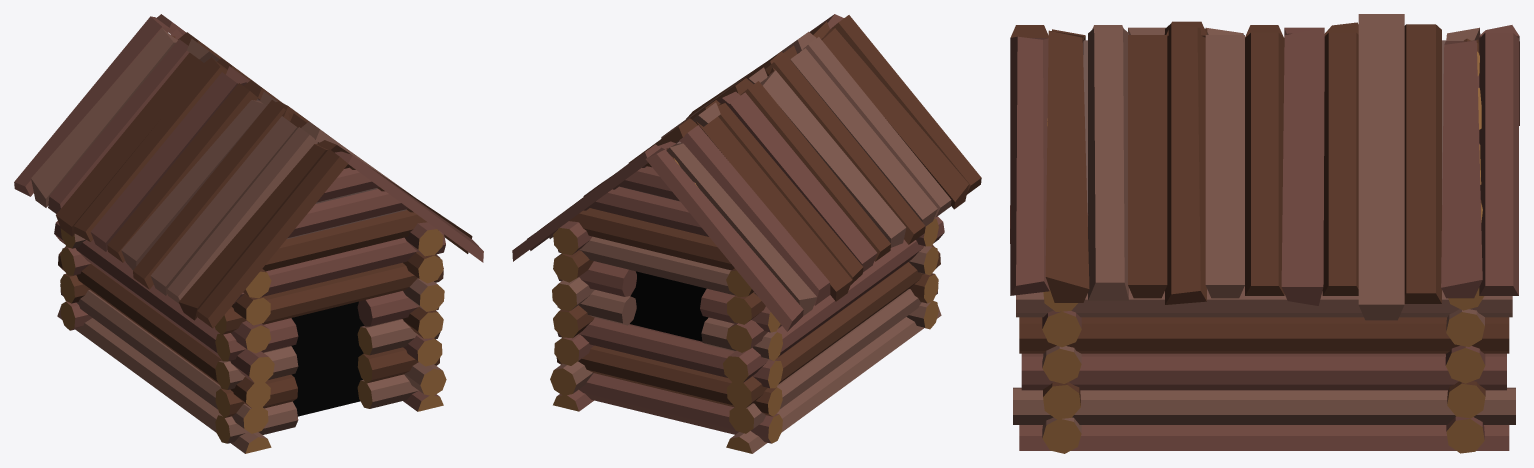
Rendered from Wood House.fbx.
3 views of the same model, side by side, from view 1: azimuth 30°, elevation 25°; view 2: azimuth 150°, elevation 25°; view 3: azimuth 270°, elevation 25° (orthographic). The views are drawn at different scales.
Visible parts, largest first — view 1: Куб, Цилиндр.039, Цилиндр.050, Цилиндр.022, Цилиндр.001, Цилиндр.049, Цилиндр.042, Цилиндр.045, Цилиндр.040, Цилиндр.024, Цилиндр.023, Цилиндр.043 (+31 smaller); view 2: Цилиндр.051, Цилиндр.009, Цилиндр.022, Цилиндр.048, Цилиндр.006, Цилиндр.007, Цилиндр.041, Цилиндр.045, Цилиндр.046, Цилиндр.049, Цилиндр.024, Цилиндр.042 (+31 smaller); view 3: Цилиндр.015, Цилиндр.014, Цилиндр.013, Цилиндр.035, Цилиндр.031, Цилиндр.026, Цилиндр.029, Цилиндр.033, Цилиндр.027, Цилиндр.037, Цилиндр.028, Цилиндр.032 (+15 smaller).
Boxes of the visible parts, x1=… form: Куб: x1=291, y1=301, x2=364, y2=416; Цилиндр.039: x1=197, y1=149, x2=347, y2=328; Цилиндр.050: x1=31, y1=28, x2=177, y2=207; Цилиндр.022: x1=58, y1=246, x2=270, y2=408; Цилиндр.001: x1=215, y1=254, x2=443, y2=334; Цилиндр.049: x1=56, y1=52, x2=209, y2=236; Цилиндр.042: x1=150, y1=116, x2=297, y2=295; Цилиндр.045: x1=91, y1=72, x2=237, y2=251; Цилиндр.040: x1=167, y1=127, x2=317, y2=303; Цилиндр.024: x1=60, y1=284, x2=268, y2=433; Цилиндр.023: x1=54, y1=221, x2=274, y2=383; Цилиндр.043: x1=133, y1=100, x2=292, y2=289; Цилиндр.051: x1=645, y1=147, x2=803, y2=331; Цилиндр.009: x1=557, y1=317, x2=782, y2=388; Цилиндр.022: x1=727, y1=244, x2=940, y2=408; Цилиндр.048: x1=679, y1=125, x2=830, y2=305; Цилиндр.006: x1=579, y1=373, x2=782, y2=443; Цилиндр.007: x1=556, y1=345, x2=782, y2=416; Цилиндр.041: x1=821, y1=28, x2=968, y2=209; Цилиндр.045: x1=728, y1=92, x2=877, y2=272; Цилиндр.046: x1=760, y1=70, x2=906, y2=247; Цилиндр.049: x1=696, y1=116, x2=852, y2=301; Цилиндр.024: x1=729, y1=283, x2=938, y2=433; Цилиндр.042: x1=790, y1=48, x2=937, y2=226; Цилиндр.015: x1=1021, y1=353, x2=1506, y2=390; Цилиндр.014: x1=1019, y1=317, x2=1509, y2=353; Цилиндр.013: x1=1013, y1=387, x2=1515, y2=424; Цилиндр.035: x1=1358, y1=14, x2=1404, y2=320; Цилиндр.031: x1=1281, y1=27, x2=1324, y2=305; Цилиндр.026: x1=1019, y1=425, x2=1509, y2=450; Цилиндр.029: x1=1088, y1=28, x2=1128, y2=300; Цилиндр.033: x1=1165, y1=23, x2=1207, y2=304; Цилиндр.027: x1=1045, y1=30, x2=1089, y2=302; Цилиндр.037: x1=1404, y1=24, x2=1441, y2=303; Цилиндр.028: x1=1128, y1=35, x2=1167, y2=298; Цилиндр.032: x1=1205, y1=35, x2=1244, y2=298.
Size of the model in its own units: 375 by 352 by 439.
